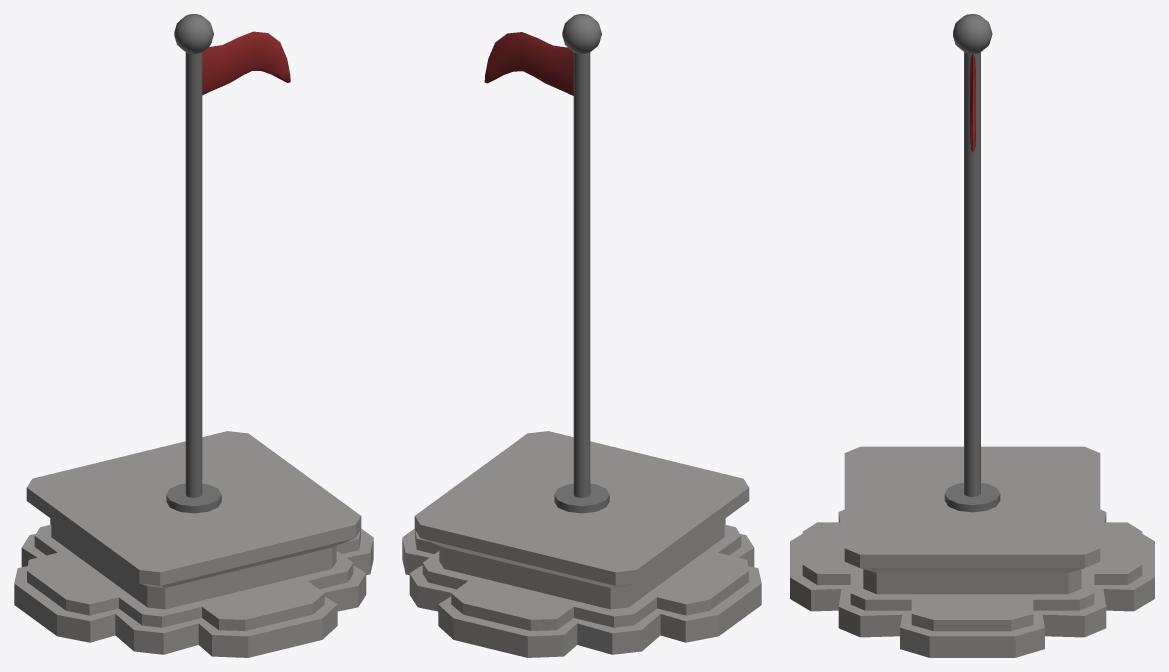
File: Pedestal_Flag.fbx
3 views of the same model, side by side, from view 1: azimuth 30°, elevation 25°; view 2: azimuth 150°, elevation 25°; view 3: azimuth 270°, elevation 25° (orthographic).
Visible parts, largest first — view 1: Pedestal; view 2: Pedestal; view 3: Pedestal.
Boxes of the visible parts, x1,y1,x2,y2 form: Pedestal: (14, 14, 373, 657); Pedestal: (402, 14, 761, 657); Pedestal: (790, 14, 1154, 657).
Bounding box in the file's own units: 195 × 334 × 195.
